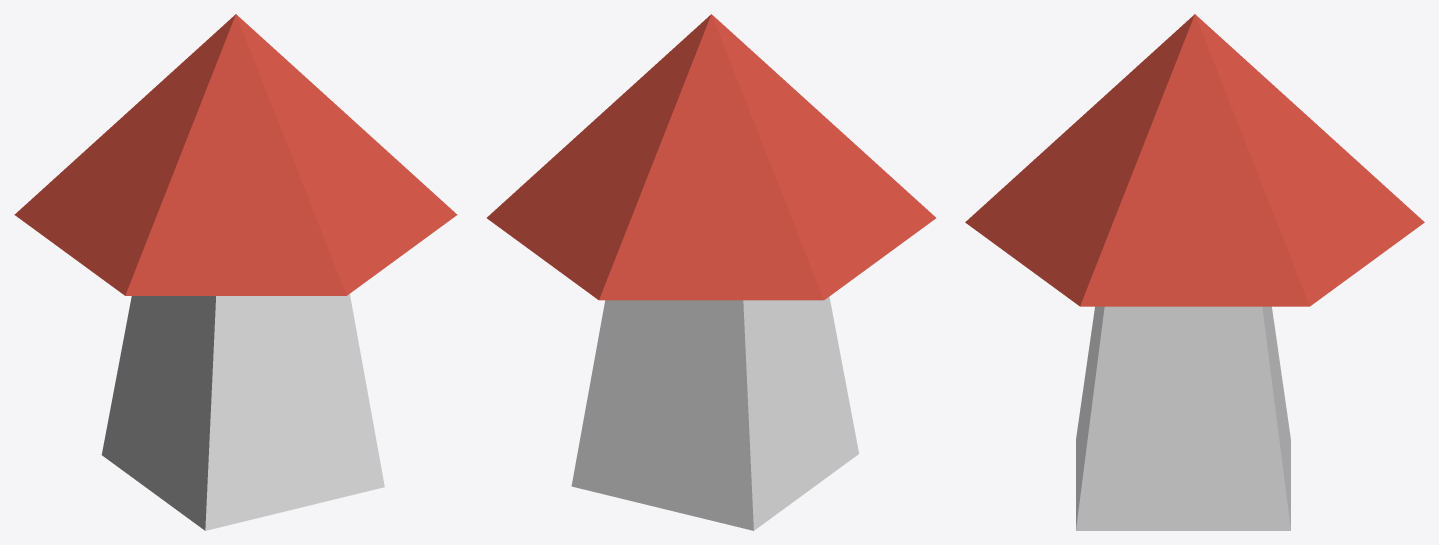
The model's file is Mushroom_Red_01.obj.
3 renders of one model, left to right at view 1: azimuth 30°, elevation 25°; view 2: azimuth 150°, elevation 25°; view 3: azimuth 270°, elevation 25°, orthographic. The views are drawn at different scales.
Parts seen in each view (by area): view 1: Mesh1_Mushroom_Red_Model; view 2: Mesh1_Mushroom_Red_Model; view 3: Mesh1_Mushroom_Red_Model.
Part boxes in pixels (box(x1,y1,x2,y2)): Mesh1_Mushroom_Red_Model: box(14, 14, 457, 530); Mesh1_Mushroom_Red_Model: box(487, 14, 935, 530); Mesh1_Mushroom_Red_Model: box(965, 14, 1424, 530).
Bounding box in the file's own units: 0.4349 × 0.567 × 0.5022.
